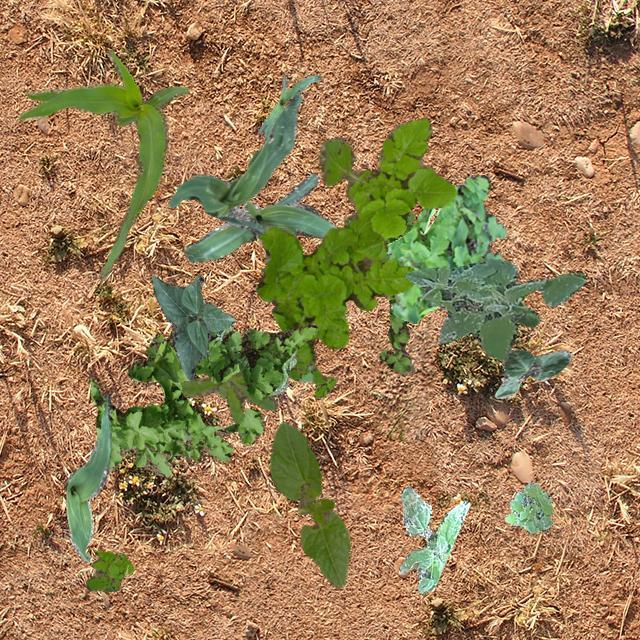crop: (18, 49, 188, 280), (168, 90, 300, 233), (182, 172, 338, 262), (268, 422, 349, 586), (150, 274, 233, 380), (64, 394, 110, 560), (258, 74, 320, 138), (494, 348, 570, 398)
weed: (254, 116, 456, 364), (90, 322, 316, 476), (404, 258, 584, 360), (386, 174, 506, 322), (344, 208, 414, 374), (398, 486, 468, 592), (212, 320, 312, 394), (178, 370, 276, 422), (503, 479, 552, 532), (288, 352, 336, 397), (86, 548, 132, 590)
